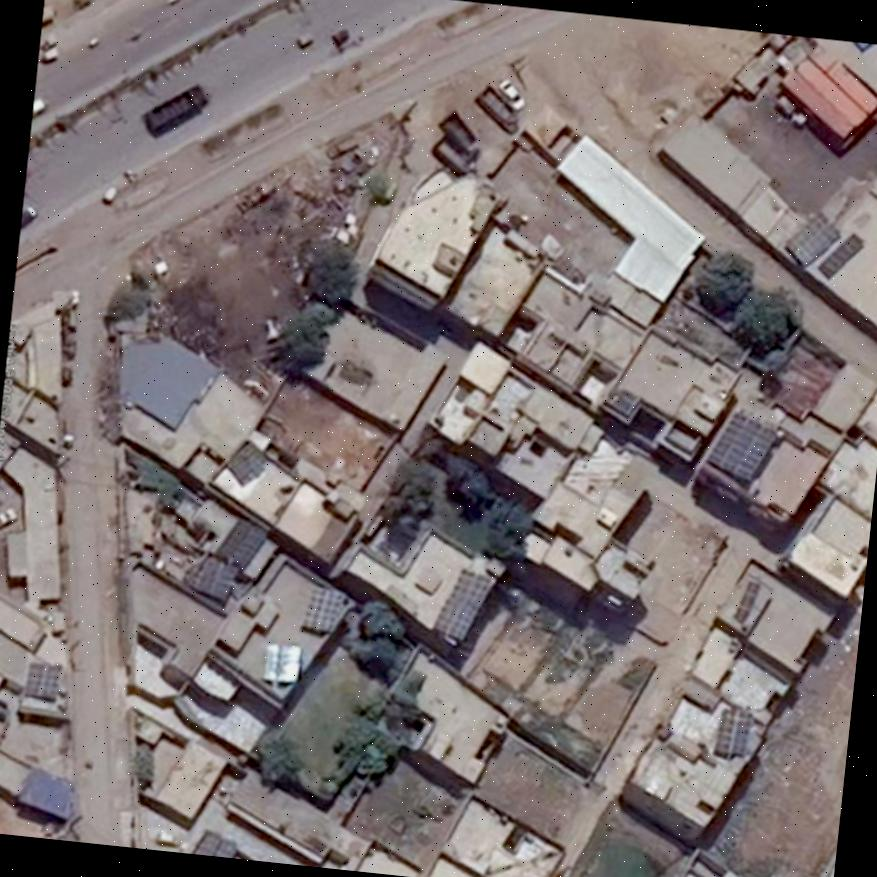Solarpanel: (708, 410, 776, 480), (432, 570, 491, 638), (786, 212, 840, 268), (219, 518, 267, 566), (820, 233, 864, 277), (197, 554, 239, 598), (305, 584, 342, 631), (717, 708, 753, 755), (263, 645, 302, 681), (192, 830, 240, 858), (25, 665, 59, 699)
